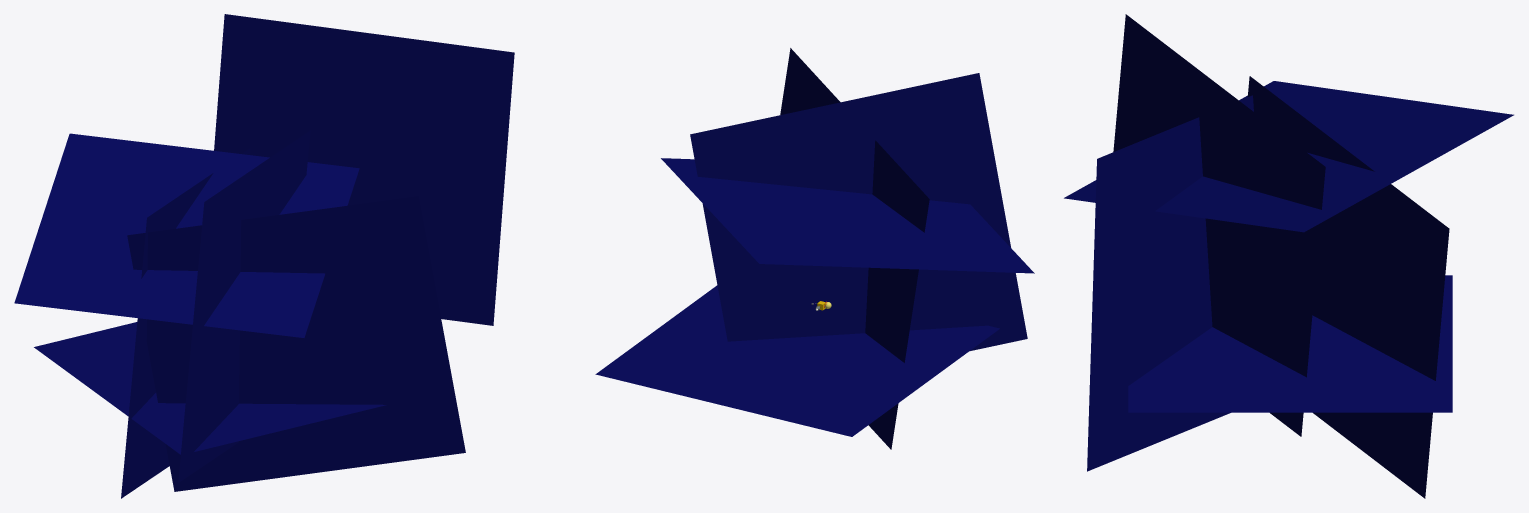
3 renders of one model, left to right at view 1: azimuth 30°, elevation 25°; view 2: azimuth 150°, elevation 25°; view 3: azimuth 270°, elevation 25°, orthographic. The views are drawn at different scales.
Visible parts, largest first — view 1: Plane.019, Plane.011, Plane.018, Plane.017, Plane.016, Plane.003; view 2: Plane.017, Plane.016, Plane.018, Plane.019; view 3: Plane.017, Plane.019, Plane.003, Plane.016, Plane.018.
Part boxes in pixels (<box>): Plane.019: <box>127,196,465,491</box>; Plane.011: <box>214,14,514,325</box>; Plane.018: <box>14,133,359,337</box>; Plane.017: <box>178,130,310,482</box>; Plane.016: <box>34,322,386,454</box>; Plane.003: <box>121,148,250,498</box>; Plane.017: <box>690,73,1027,350</box>; Plane.016: <box>595,285,999,436</box>; Plane.018: <box>661,158,1034,273</box>; Plane.019: <box>780,48,929,449</box>; Plane.017: <box>1113,14,1325,436</box>; Plane.019: <box>1087,95,1253,471</box>; Plane.003: <box>1247,76,1449,498</box>; Plane.016: <box>1128,275,1452,412</box>; Plane.018: <box>1064,81,1513,232</box>.
Bounding box in the file's own units: 480 × 364 × 345.
